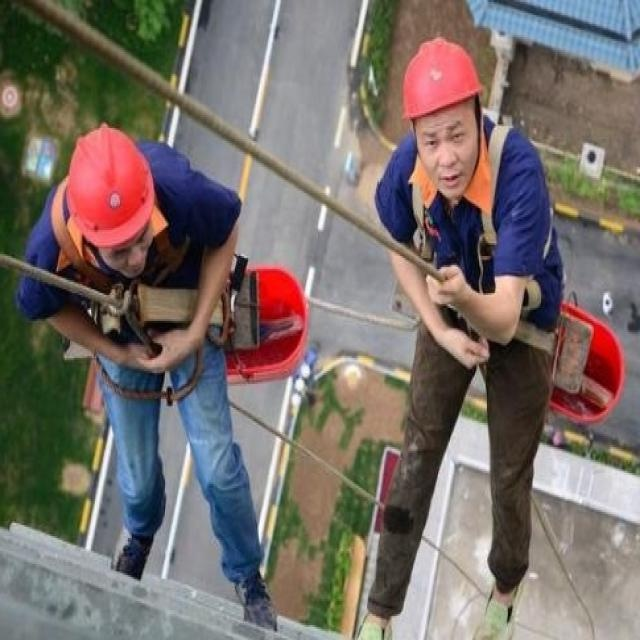Con_Casco: (404, 33, 482, 200)
